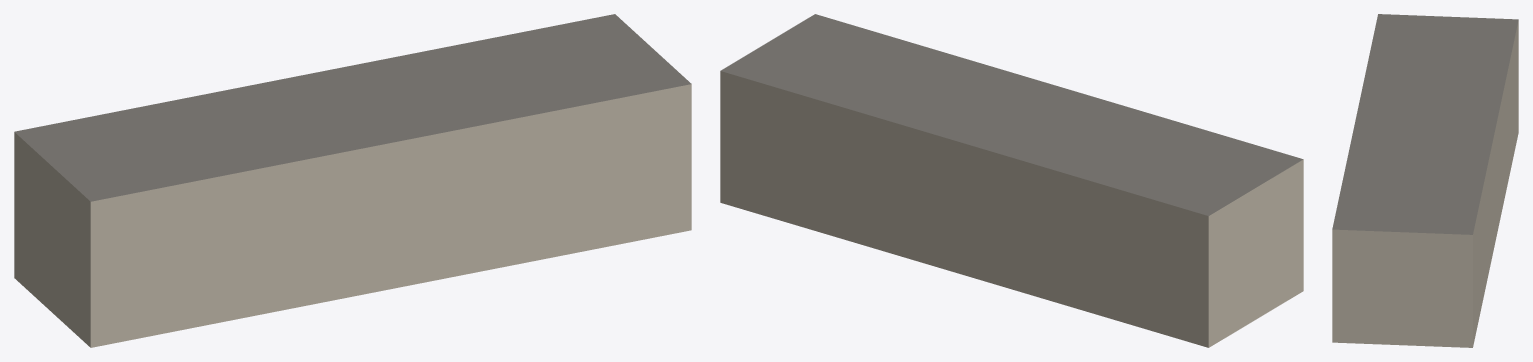
The picture shows the model from 3 angles, left to right: view 1: azimuth 30°, elevation 25°; view 2: azimuth 150°, elevation 25°; view 3: azimuth 270°, elevation 25°; orthographic projection. The views are drawn at different scales.
Parts seen in each view (by area): view 1: HP-w859488868; view 2: HP-w859488868; view 3: HP-w859488868.
Boxes of the visible parts, x1,y1,x2,y2 form: HP-w859488868: [14, 14, 691, 347]; HP-w859488868: [720, 14, 1303, 347]; HP-w859488868: [1332, 14, 1518, 347].
Size of the model in its own units: 75.45 by 18 by 26.91.
